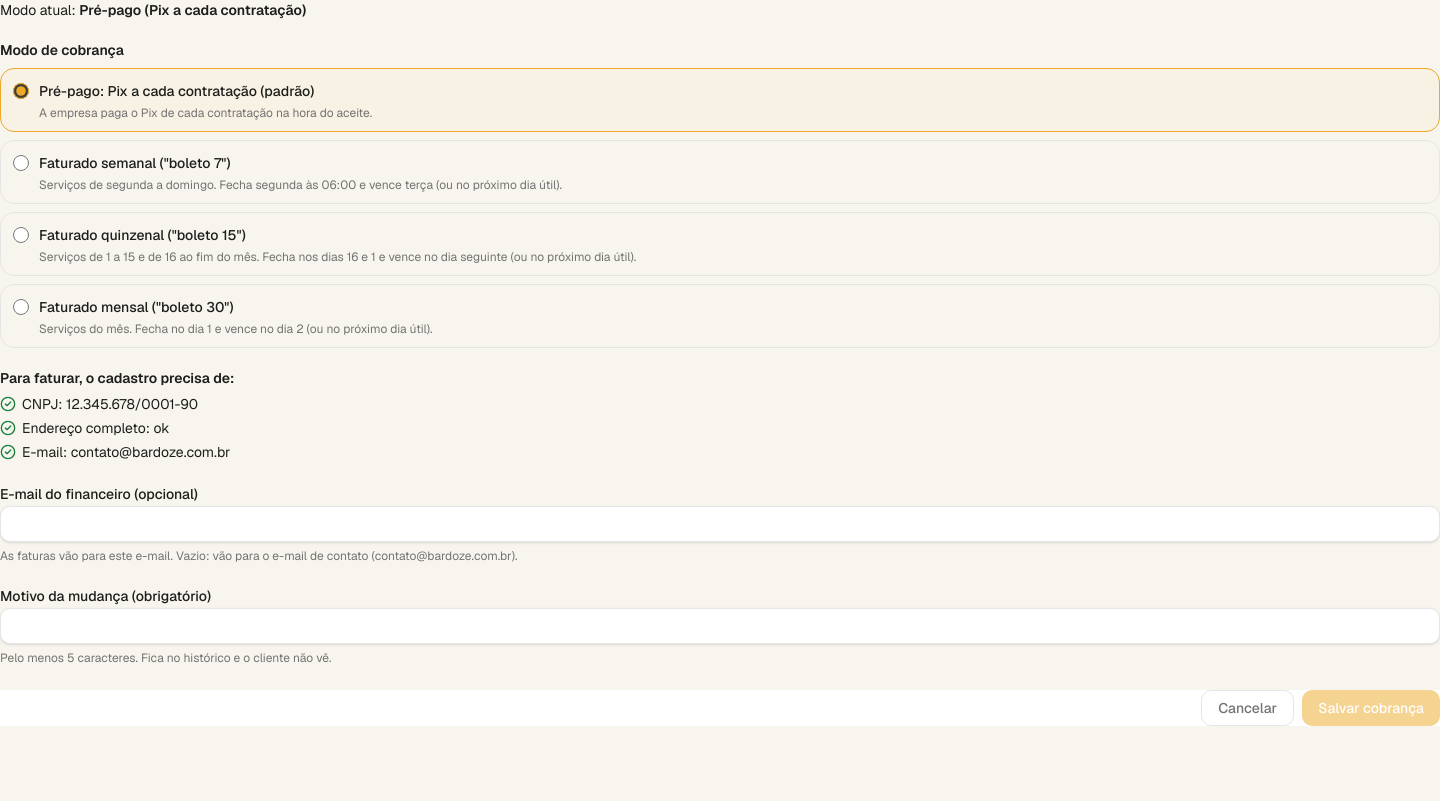
Test case: BillingTab — modos e pré-requisitos › mostra o horário que a API devolve (descrição do semanal e 1ª fatura)
The width and height of the screenshot is (1440, 801).
Click the radio button labelled "Faturado semanal (\"boleto 7\")".
click(21, 163)  # box [13,155,29,171]
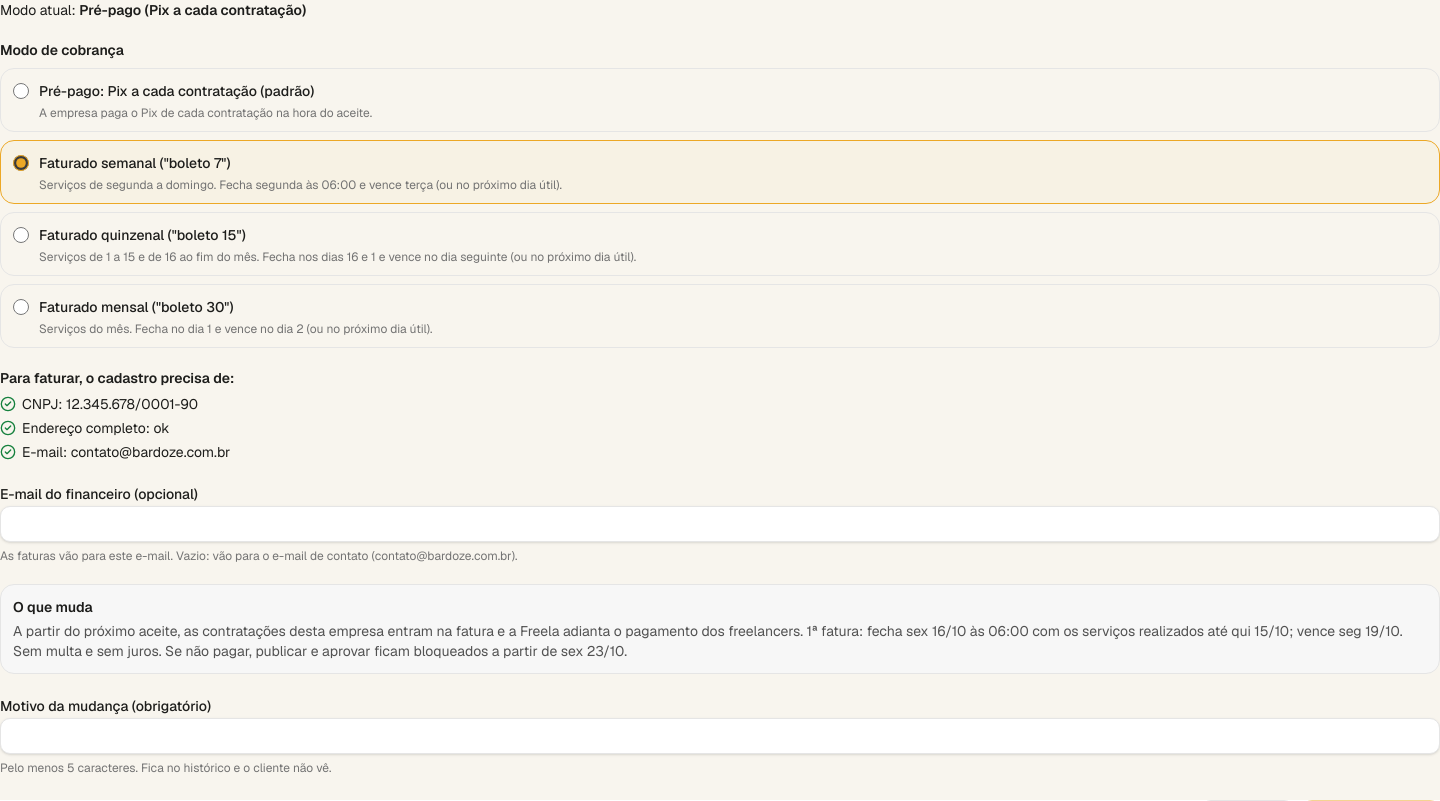
Expected: the element "O que muda" shows "1ª fatura: fecha sex 16/10 às 06:00 com os serviços realizados até qui 15/10; vence seg 19/10.", [13,622,1403,660]
